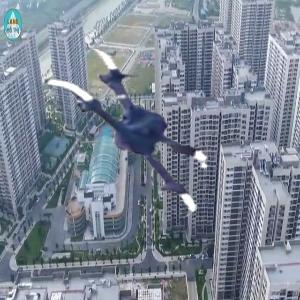drone: (25, 44, 220, 239)
